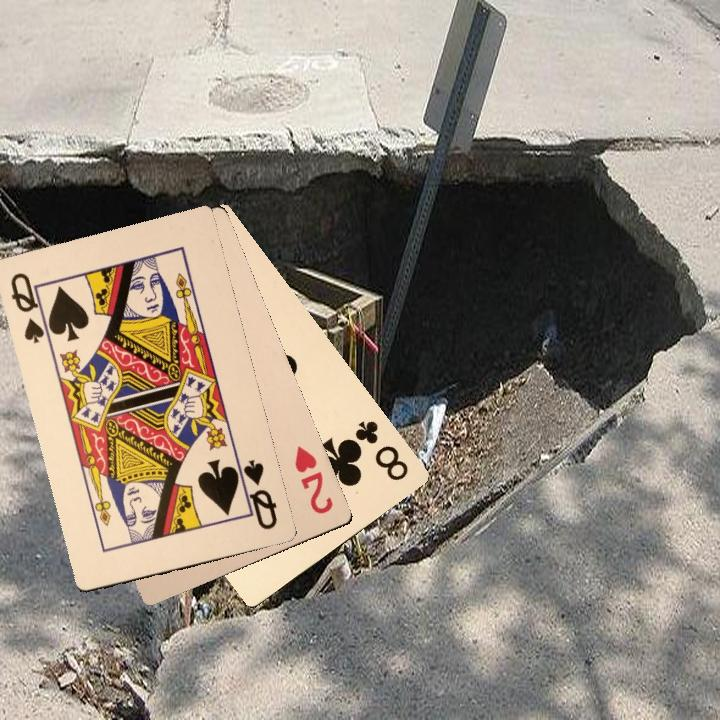2h: (290, 442, 336, 517)
8c: (350, 416, 411, 484)
Qs: (6, 268, 55, 346), (232, 455, 280, 532)
